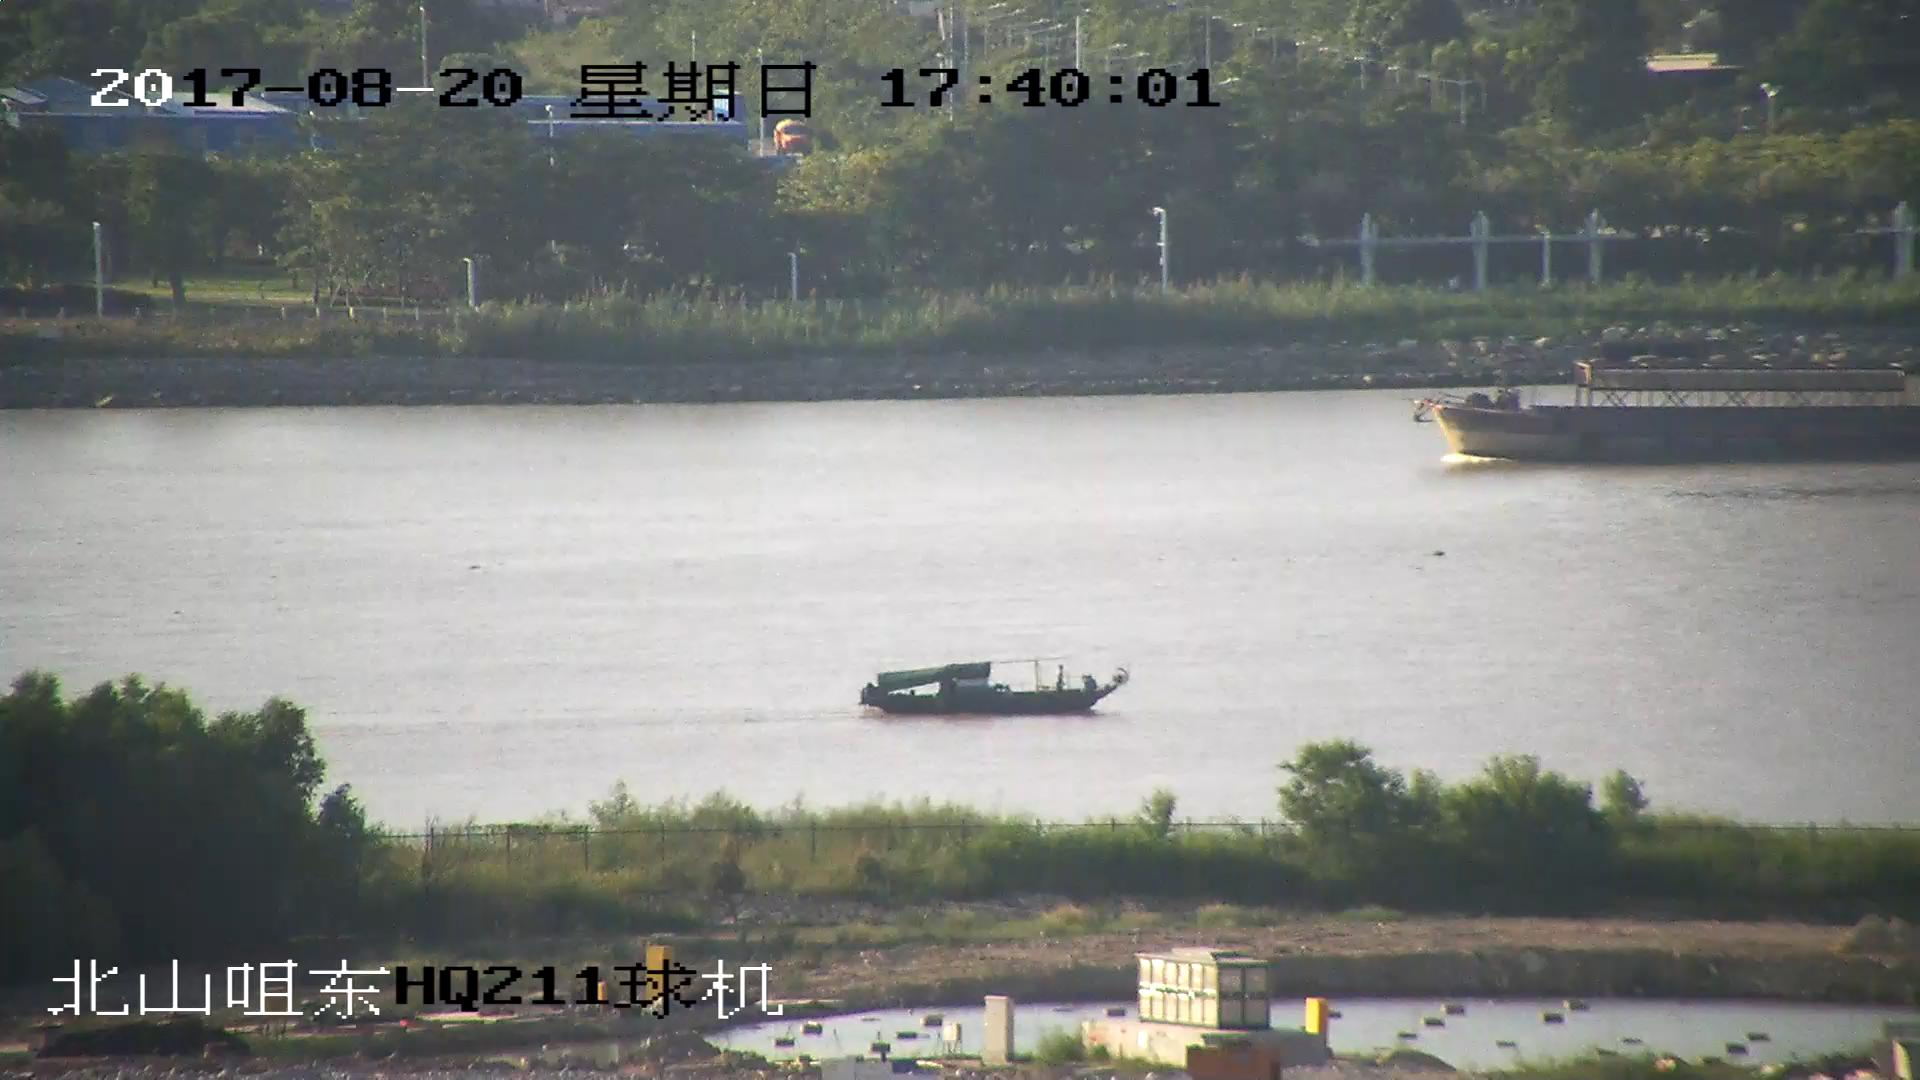fishing boat: (1416, 350, 1920, 460), (860, 651, 1137, 714)
